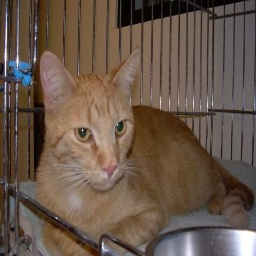cat: (35, 50, 248, 254)
